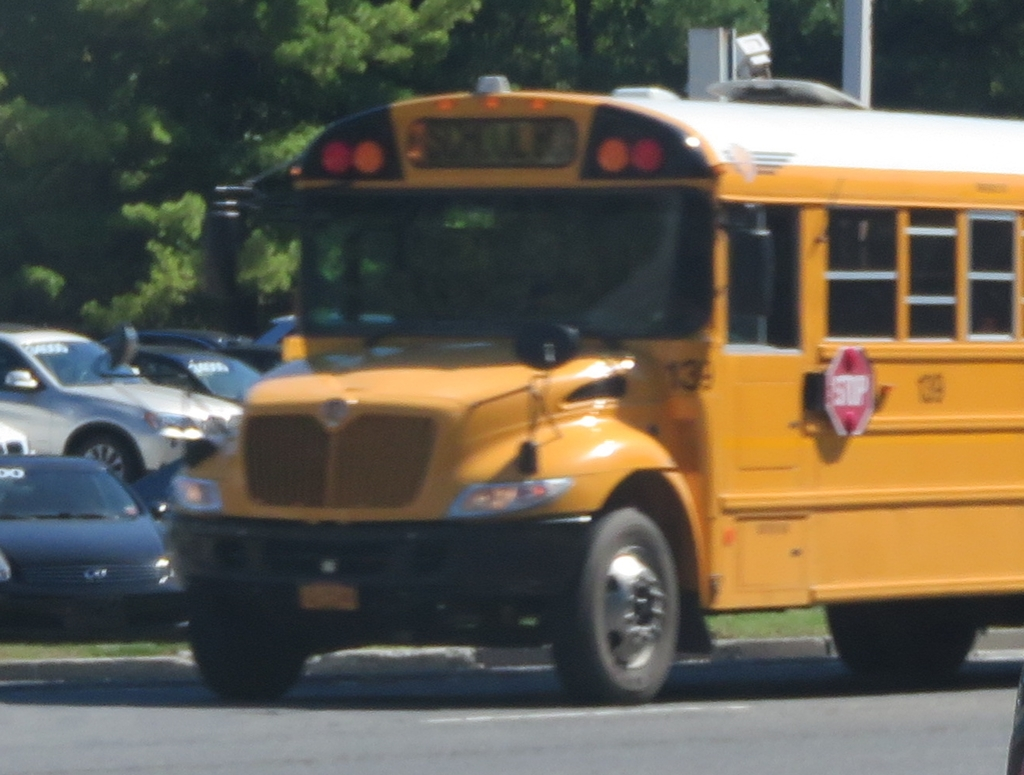cars: (0, 320, 395, 635), (0, 453, 185, 631)
